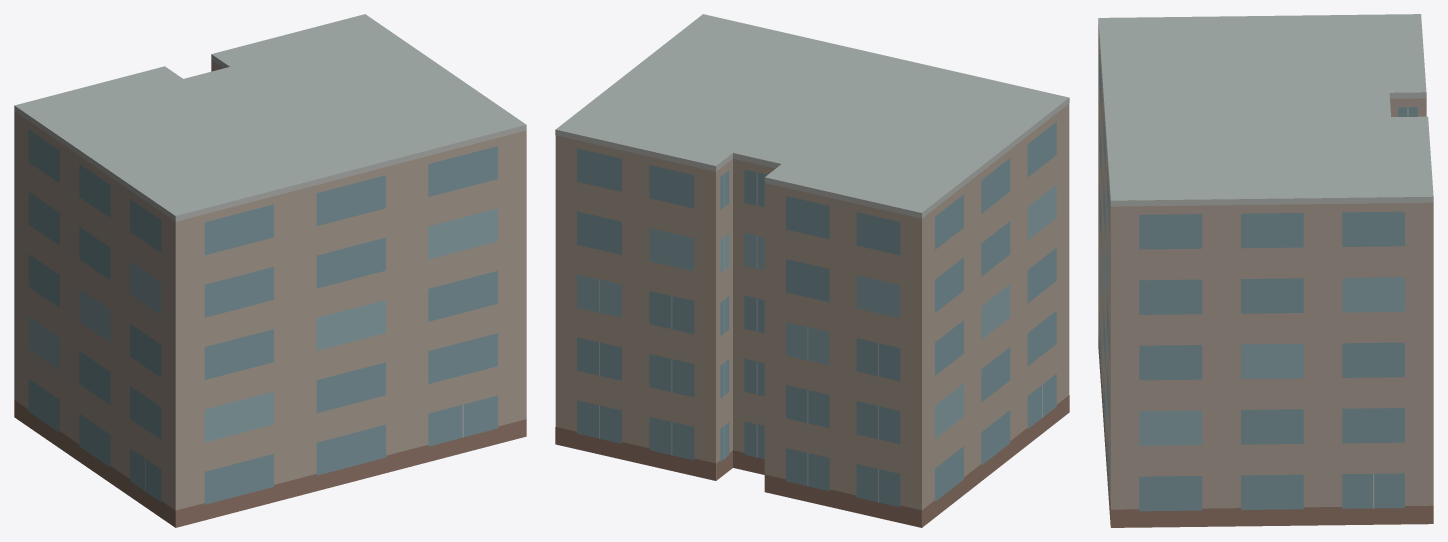
The model's file is survey-upis-32705673.glb.
The picture shows the model from 3 angles, left to right: view 1: azimuth 30°, elevation 25°; view 2: azimuth 150°, elevation 25°; view 3: azimuth 270°, elevation 25°; orthographic projection. The views are drawn at different scales.
Visible parts, largest first — view 1: survey-upis-32705673.tmp; view 2: survey-upis-32705673.tmp; view 3: survey-upis-32705673.tmp.
Boxes of the visible parts, bbox=[...] form: survey-upis-32705673.tmp: bbox=[14, 14, 526, 527]; survey-upis-32705673.tmp: bbox=[555, 14, 1069, 527]; survey-upis-32705673.tmp: bbox=[1098, 14, 1433, 527].
Bounding box in the file's own units: 16.53 × 13.5 × 12.55.
